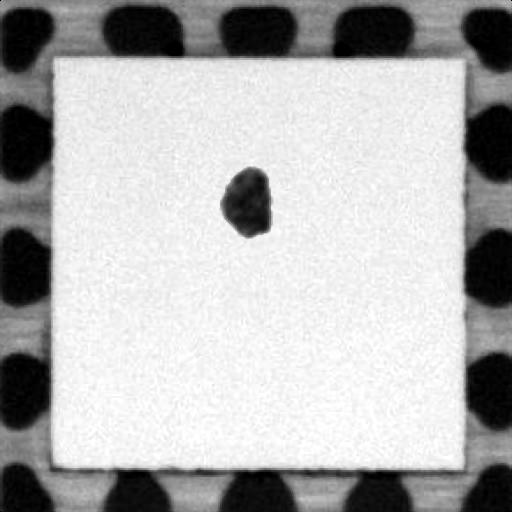DIE_INK: (212, 160, 272, 241)
